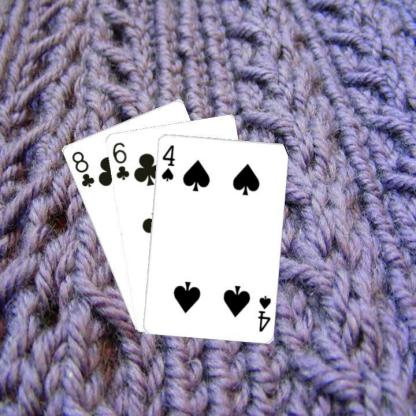4S: (158, 142, 176, 182), (255, 292, 272, 333)
6C: (109, 139, 131, 181)
8C: (69, 148, 95, 188)
